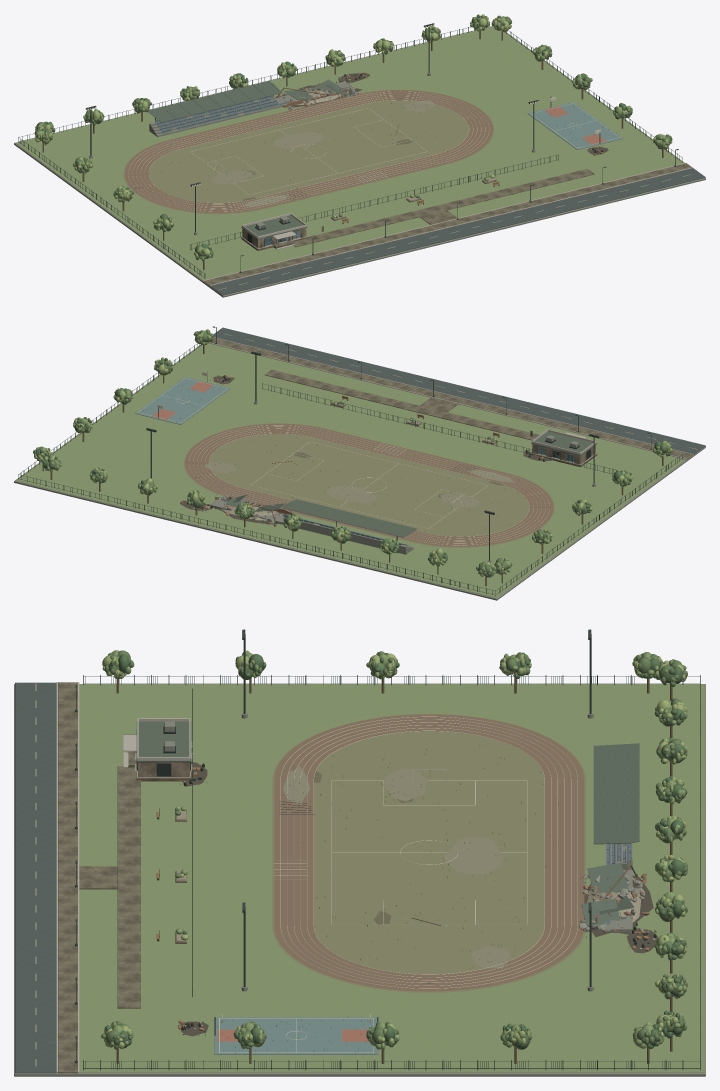
File: athletics-abandoned.glb
3 renders of one model, top to bottom at view 1: azimuth 30°, elevation 25°; view 2: azimuth 150°, elevation 25°; view 3: azimuth 270°, elevation 25°, orthographic. The views are drawn at different scales.
Parts seen in each view (by area): view 1: 材质批次_grass, 材质批次_athletics_playing_turf, 材质批次_athletics_ochre_track, 材质批次_asphalt, 材质批次_plaza_paving, 材质批次_poi_marking, 材质批次_poi_service_concrete, 材质批次_street_metal, 材质批次_sage_metal_roof, 材质批次_school_court, 材质批次_warm_cream_trim, 材质批次_leaf_2 (+6 smaller); view 2: 材质批次_grass, 材质批次_athletics_playing_turf, 材质批次_athletics_ochre_track, 材质批次_asphalt, 材质批次_plaza_paving, 材质批次_street_metal, 材质批次_poi_marking, 材质批次_poi_service_concrete, 材质批次_sage_metal_roof, 材质批次_school_court, 材质批次_warm_cream_trim, 材质批次_leaf_1 (+6 smaller); view 3: 材质批次_grass, 材质批次_athletics_playing_turf, 材质批次_athletics_ochre_track, 材质批次_asphalt, 材质批次_plaza_paving, 材质批次_sage_metal_roof, 材质批次_poi_marking, 材质批次_street_metal, 材质批次_poi_service_concrete, 材质批次_school_court, 材质批次_leaf_1, 材质批次_abandoned_dry_ground (+7 smaller).
Part boxes in pixels (x1,y1,x2,y2): 材质批次_grass: (15,26,684,280); 材质批次_athletics_playing_turf: (123,90,494,214); 材质批次_athletics_ochre_track: (124,90,492,213); 材质批次_asphalt: (210,168,705,295); 材质批次_plaza_paving: (203,163,692,285); 材质批次_poi_marking: (128,91,691,289); 材质批次_poi_service_concrete: (14,33,705,297); 材质批次_street_metal: (18,21,682,278); 材质批次_sage_metal_roof: (147,79,350,239); 材质批次_school_court: (527,102,623,149); 材质批次_warm_cream_trim: (203,75,692,285); 材质批次_leaf_2: (34,14,669,259); 材质批次_grass: (15,343,685,598); 材质批次_athletics_playing_turf: (184,423,554,547); 材质批次_athletics_ochre_track: (185,423,553,546); 材质批次_asphalt: (213,327,705,454); 材质批次_plaza_paving: (209,338,692,459); 材质批次_street_metal: (18,326,682,595); 材质批次_poi_marking: (138,334,697,545); 材质批次_poi_service_concrete: (14,345,705,600); 材质批次_sage_metal_roof: (226,431,597,537); 材质批次_school_court: (135,377,230,424); 材质批次_warm_cream_trim: (186,337,693,509); 材质批次_leaf_1: (33,330,669,576); 材质批次_grass: (79,684,704,1072); 材质批次_athletics_playing_turf: (272,714,585,992); 材质批次_athletics_ochre_track: (274,714,584,991); 材质批次_asphalt: (15,682,56,1073); 材质批次_plaza_paving: (58,682,140,1073); 材质批次_sage_metal_roof: (136,721,639,925); 材质批次_poi_marking: (35,684,577,1065); 材质批次_street_metal: (75,629,700,1070); 材质批次_poi_service_concrete: (14,684,705,1076); 材质批次_school_court: (214,1017,378,1054); 材质批次_leaf_1: (101,650,687,1052); 材质批次_abandoned_dry_ground: (283,766,510,968).
Size of the model in its own units: 160 by 17.03 by 120.
Materials: 34 (5 with a texture image).
